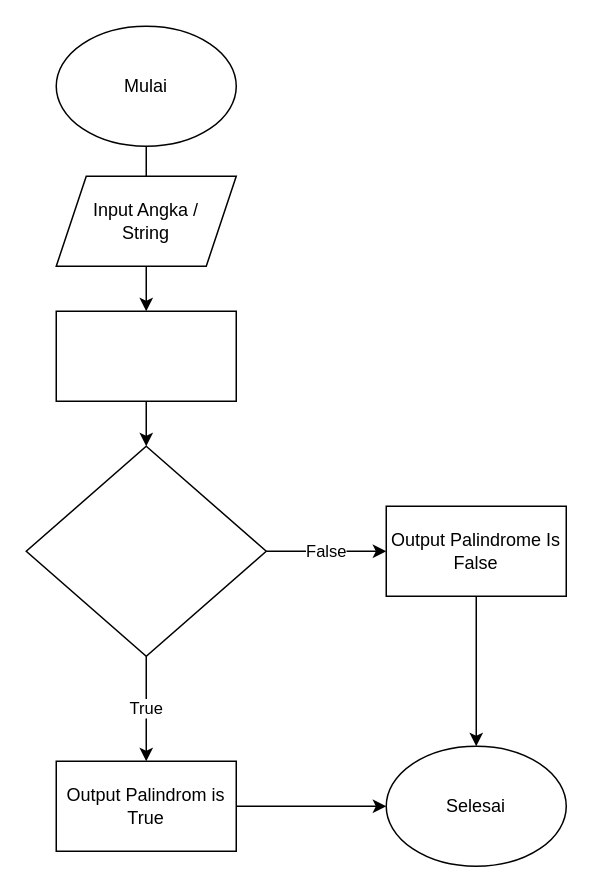
This 593x893 diagram has some shape labels left out. Each missing label, with the centre of its shape:
Cek jika Input Angka/String === Reverse Angka/String: the point at 145,550
Reverse Angka / String: the point at 145,355
